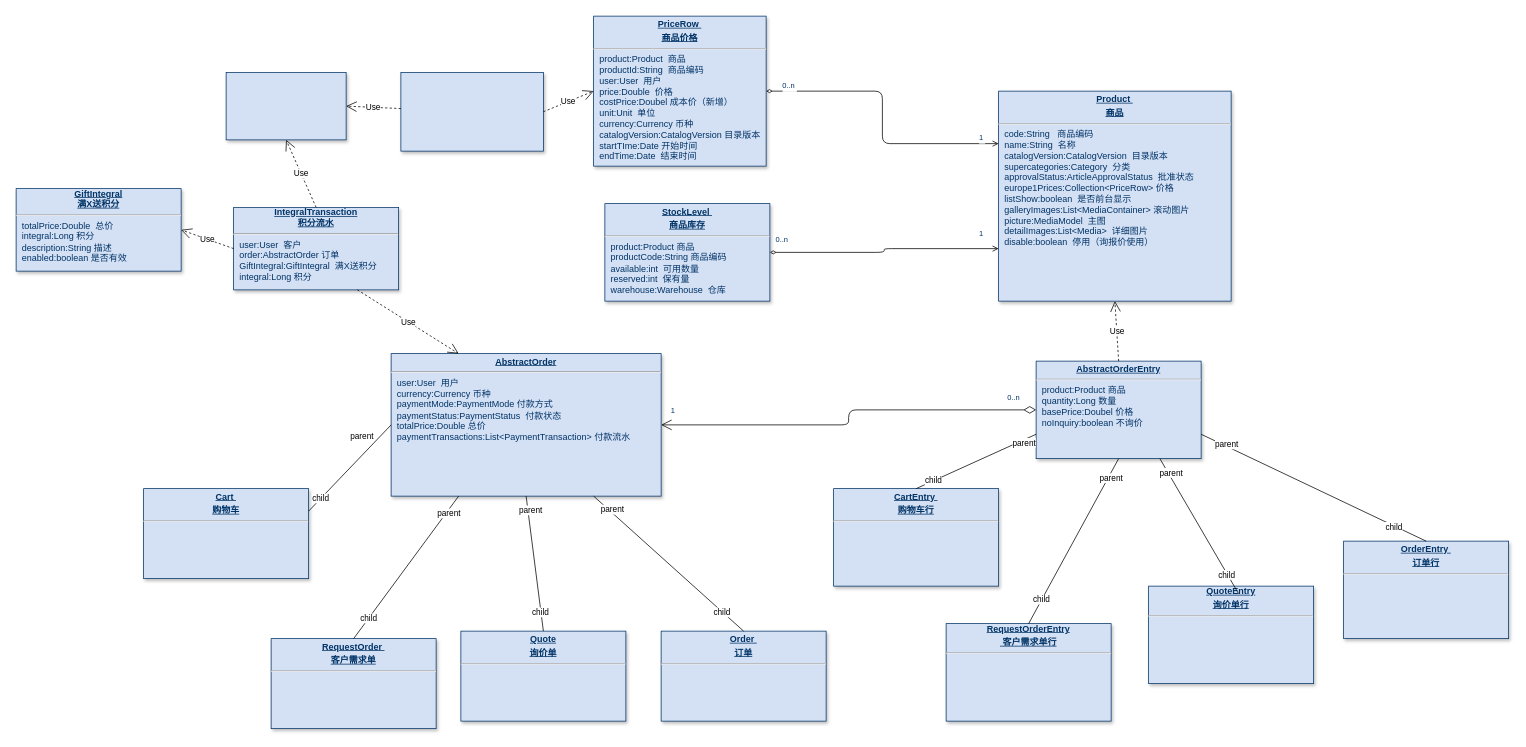
Image size: 1526x747. Some labels were removed from this diagram. The centre of each missing label's shape, as x and y in pixels:
"User 用户 uid:String 用户ID name:String 用户名 integral:Long 积分" belongs at (x=286, y=107).
"UserDiscount 客户折扣 user:User 客户 productCode:String 商品编码 discount:Double 折扣" belongs at (x=472, y=112).
